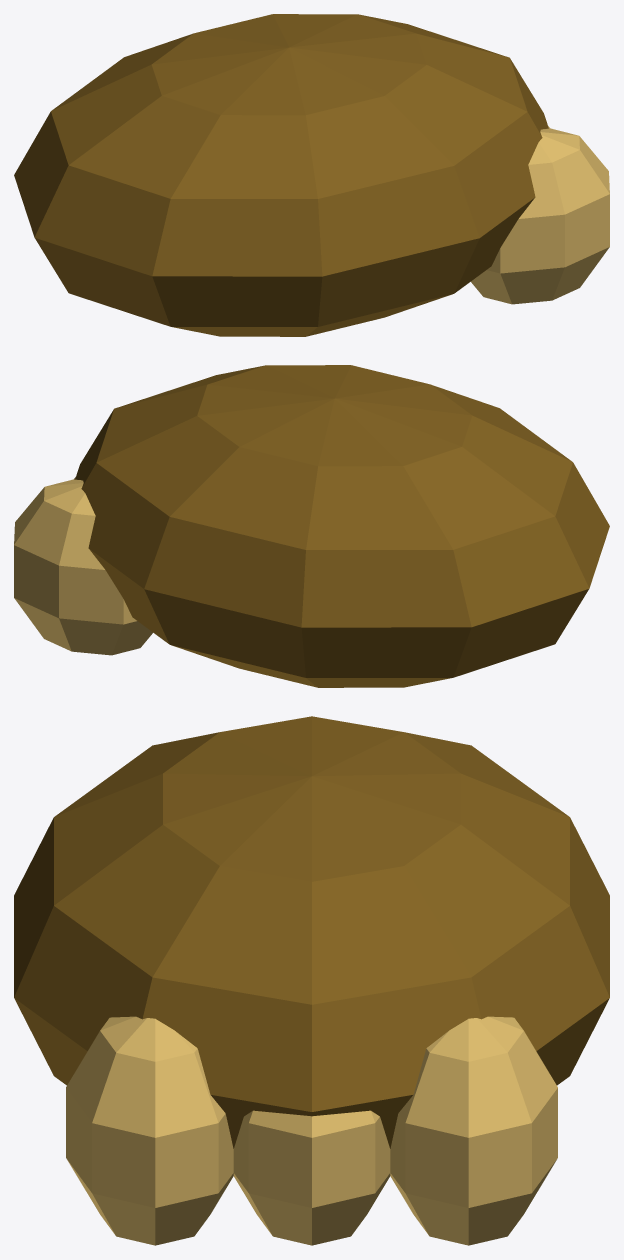
File: SM_triceratops_fore_l_Foot.fbx
3 renders of one model, top to bottom at view 1: azimuth 30°, elevation 25°; view 2: azimuth 150°, elevation 25°; view 3: azimuth 270°, elevation 25°, orthographic. The views are drawn at different scales.
Parts seen in each view (by area): view 1: SM_triceratops_fore_l_Foot export; view 2: SM_triceratops_fore_l_Foot export; view 3: SM_triceratops_fore_l_Foot export.
Boxes of the visible parts, x1=… form: SM_triceratops_fore_l_Foot export: x1=14, y1=14, x2=609, y2=336; SM_triceratops_fore_l_Foot export: x1=14, y1=365, x2=609, y2=687; SM_triceratops_fore_l_Foot export: x1=14, y1=716, x2=609, y2=1245.
Size of the model in its own units: 101 by 76.08 by 48.
